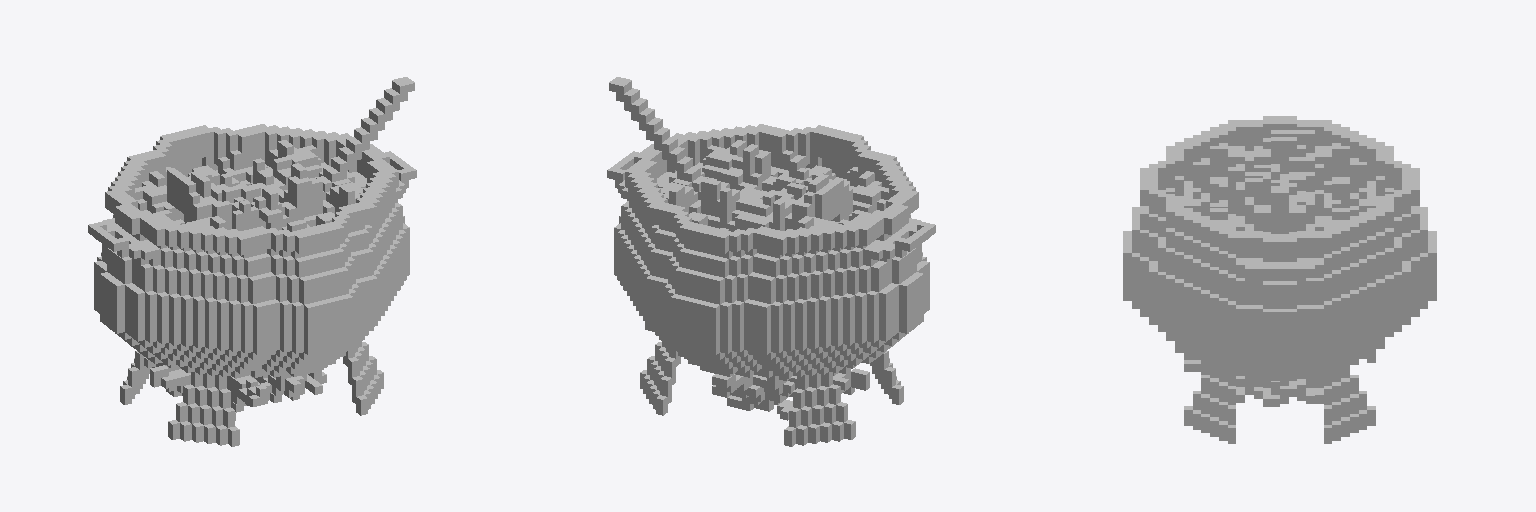
Rendered from potMiniGameR.obj.
3 views of the same model, side by side, from view 1: azimuth 30°, elevation 25°; view 2: azimuth 150°, elevation 25°; view 3: azimuth 270°, elevation 25° (orthographic).
Parts seen in each view (by area): view 1: object 1; view 2: object 1; view 3: object 1.
Part boxes in pixels (x1,y1,x2,y2): object 1: (88,77,416,446); object 1: (607,77,935,446); object 1: (1123,116,1436,443).
Size of the model in its own units: 4.1 by 3.5 by 3.6.